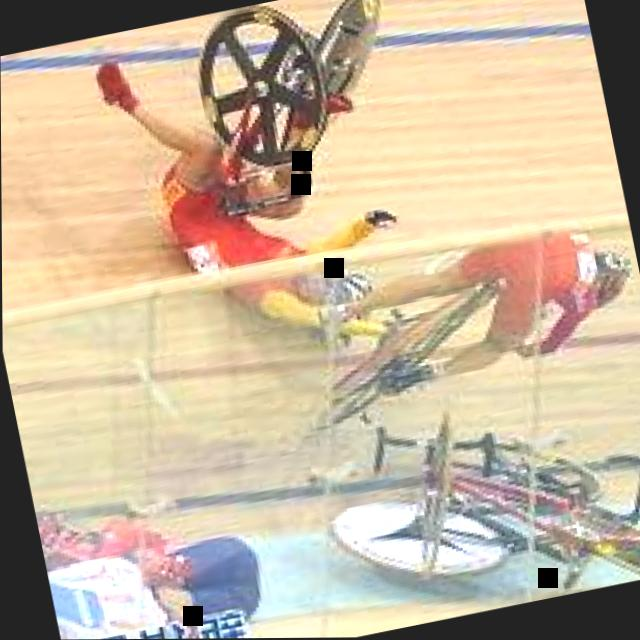Fall-Detected: (74, 0, 461, 383)
